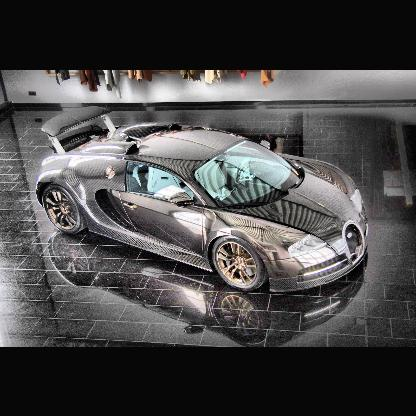Bugatti Veyron 16-4 Coupe 2009: (35, 111, 370, 293)
